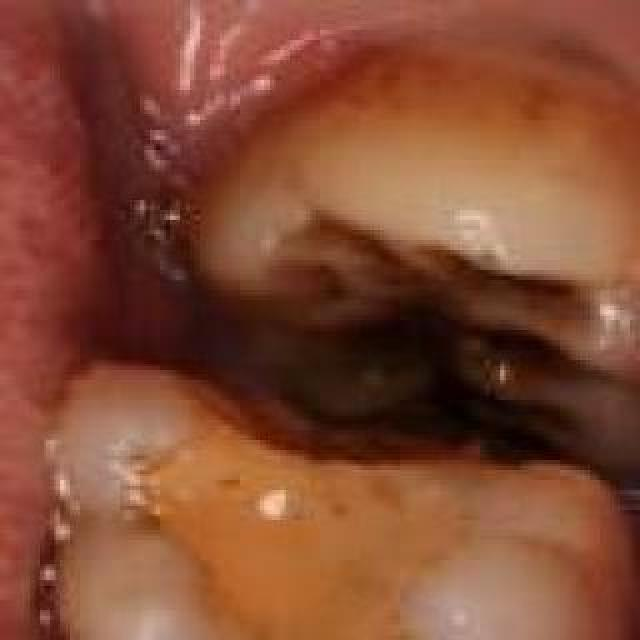cavities: (185, 200, 595, 460)
stains: (229, 8, 639, 254)
